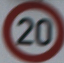20 km speed: (1, 1, 64, 62)
